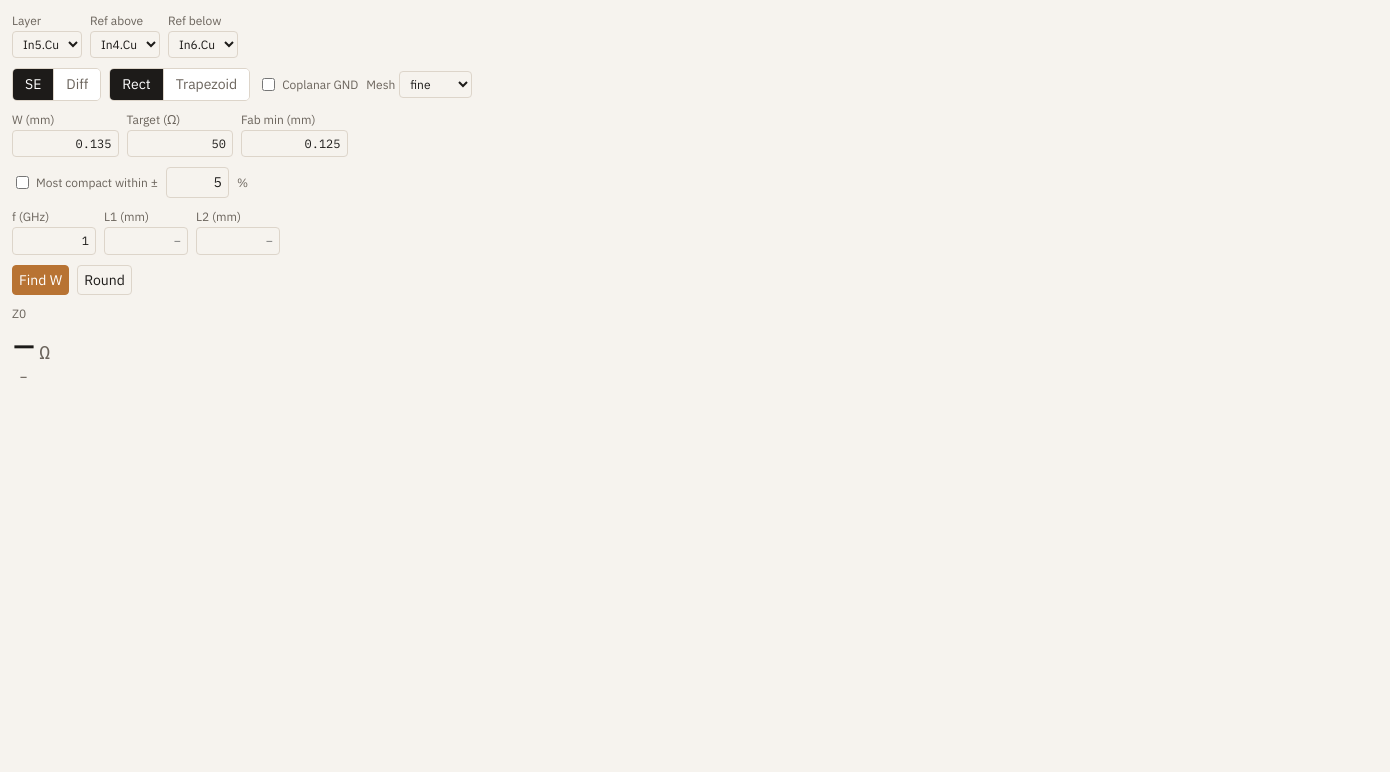
Test: Calculator › Find W writes W and reports a one-line message; a failure shows the message and a Why? detail
Click the button "Find W": (41, 280) x1=12 y1=264 x2=69 y2=295
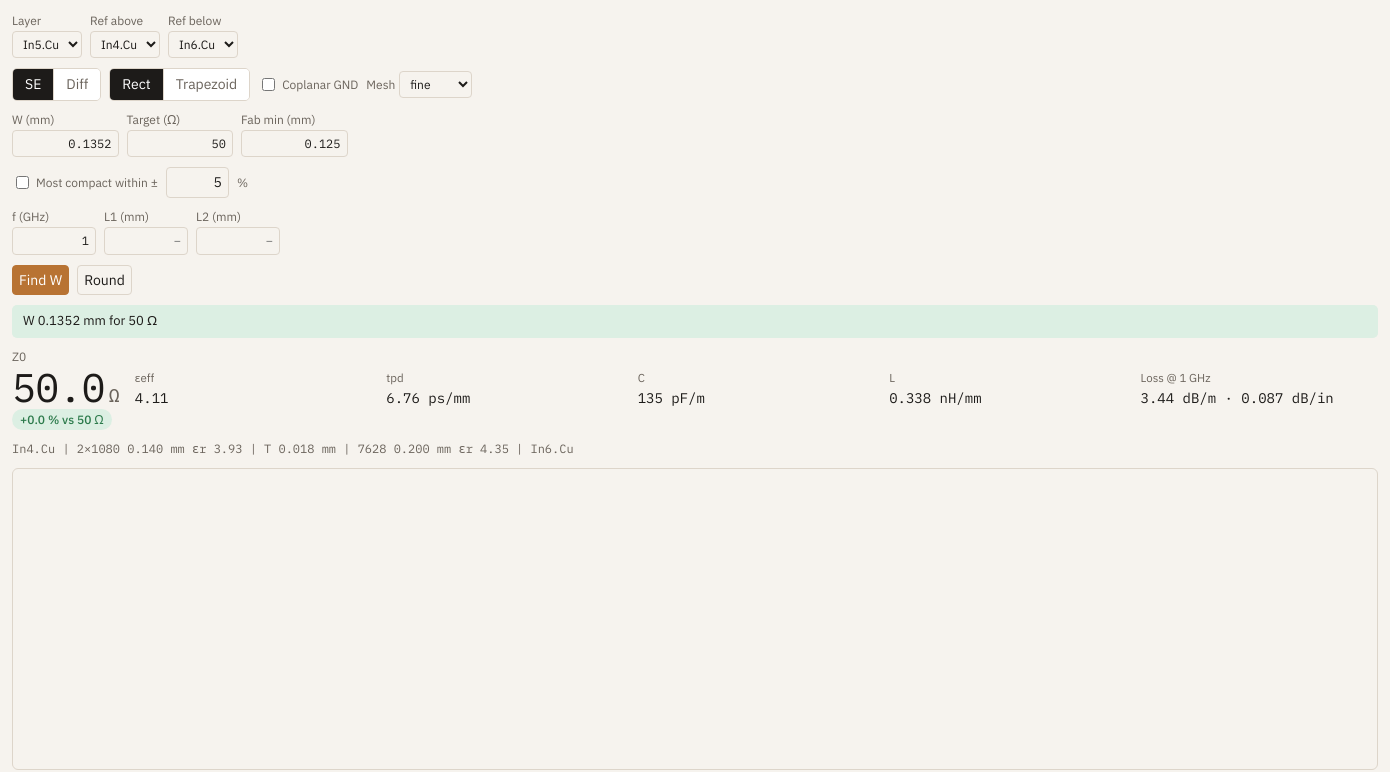
Result: the field named "Width W" holds "0.1352" at x1=12 y1=130 x2=118 y2=158
Result: the text "W 0.1352 mm for 50 Ω" is shown at x1=23 y1=312 x2=157 y2=329
Click the button "Find W": (41, 280) x1=12 y1=264 x2=69 y2=295
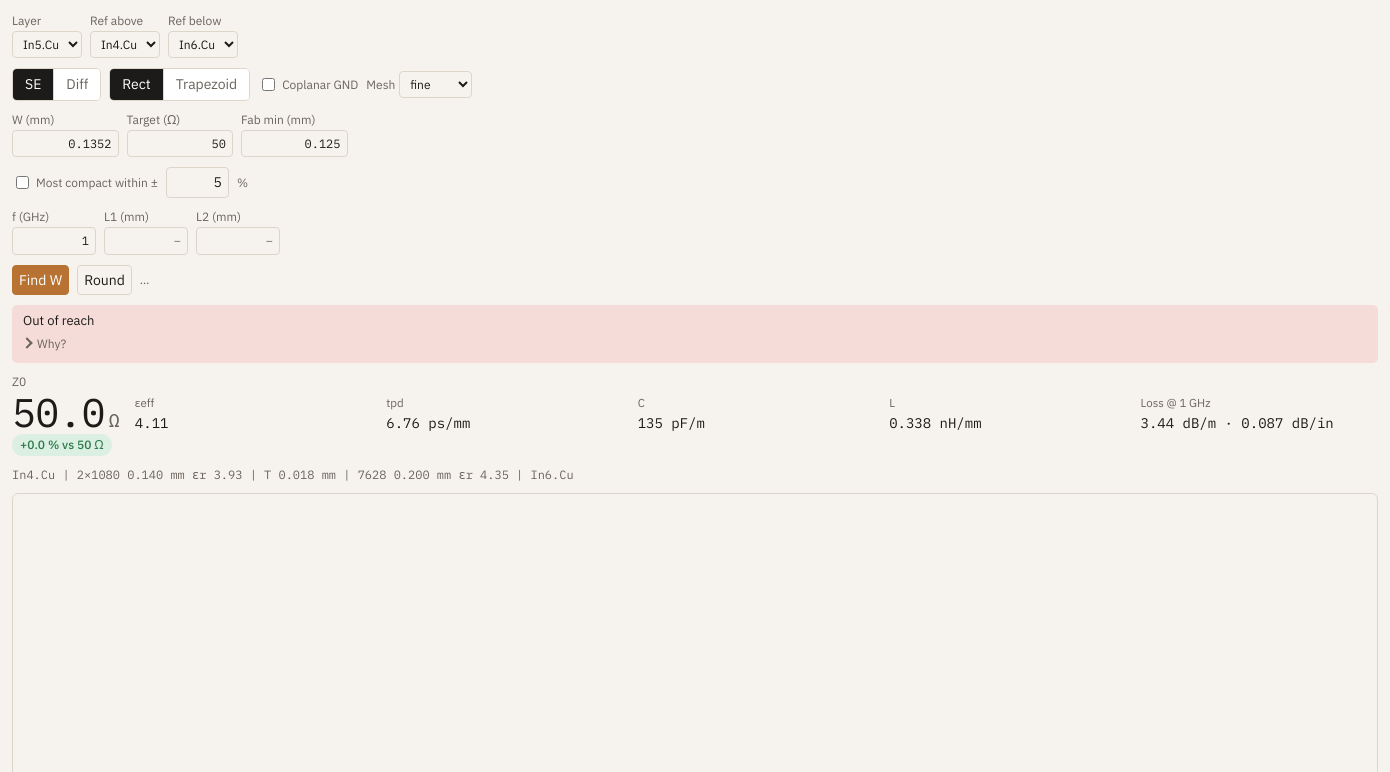
Result: the text "Out of reach" is shown at x1=23 y1=312 x2=94 y2=329
Result: the heading "Why?" is shown at x1=37 y1=336 x2=66 y2=351
